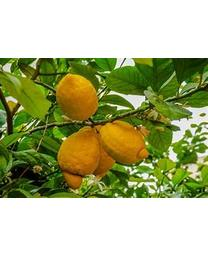lemon: (99, 120, 150, 167), (58, 127, 102, 176), (56, 74, 99, 119)
